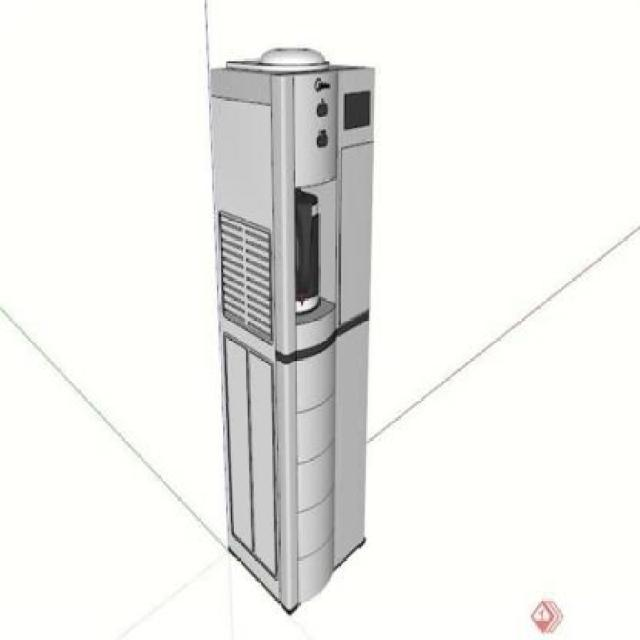cooler: (209, 40, 378, 619)
